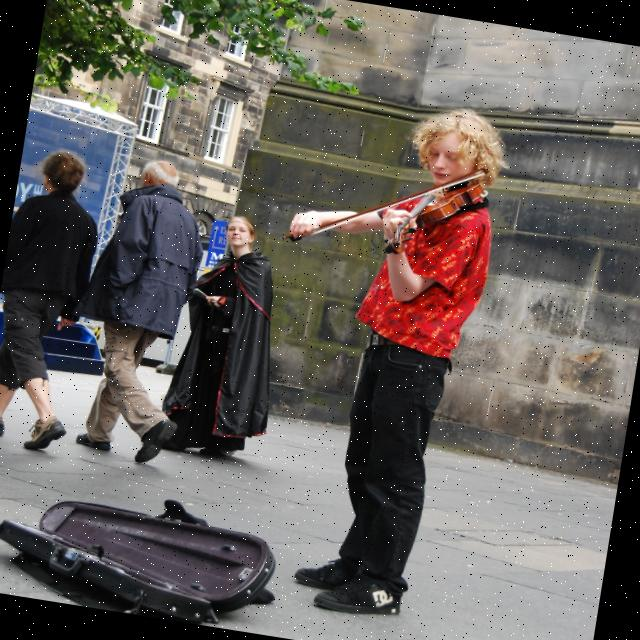violin: (380, 168, 489, 270)
